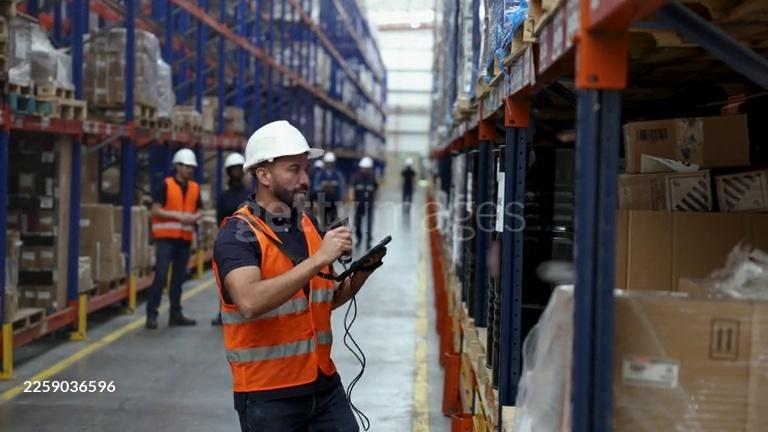helmet: (242, 121, 311, 173), (172, 149, 197, 168), (224, 151, 246, 169), (359, 157, 374, 170), (323, 157, 337, 167)
person: (208, 121, 387, 432), (145, 149, 203, 330), (350, 156, 379, 250), (216, 151, 252, 226), (310, 156, 346, 228), (400, 158, 416, 205)
